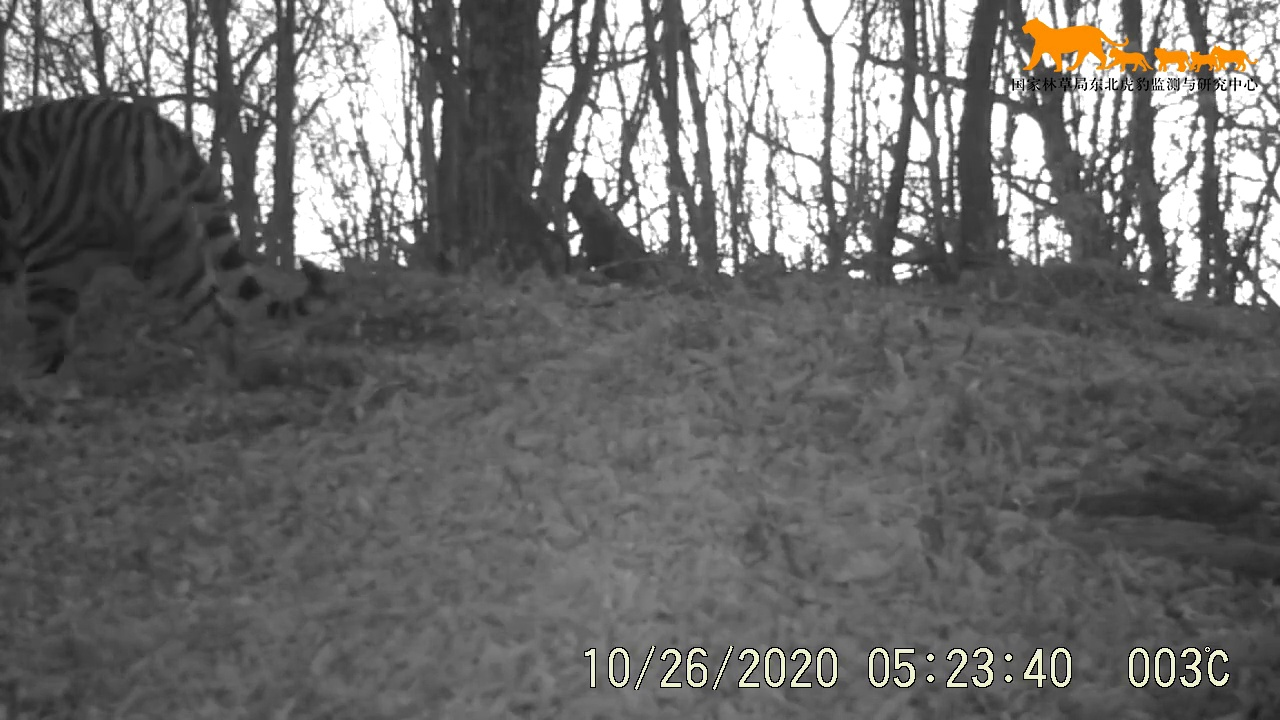Tiger: (1, 27, 349, 386)
